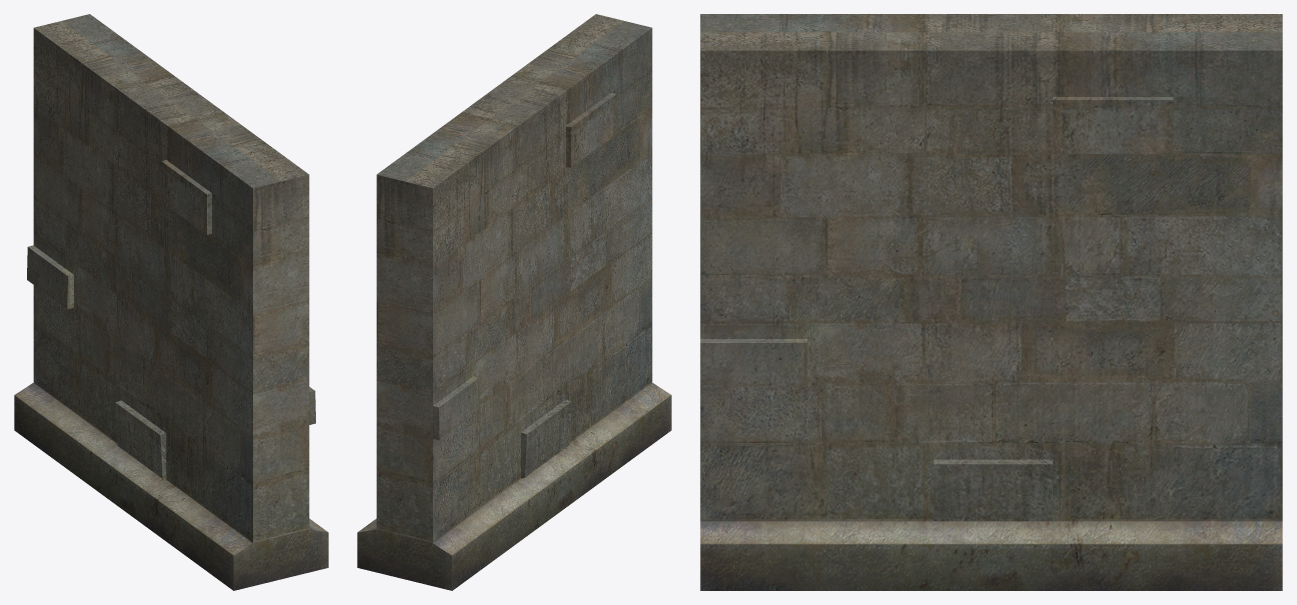
The model's file is bg_lut_lutomb_wall05_sm_old.FBX.
3 views of the same model, side by side, from view 1: azimuth 30°, elevation 25°; view 2: azimuth 150°, elevation 25°; view 3: azimuth 270°, elevation 25° (orthographic). The views are drawn at different scales.
Parts seen in each view (by area): view 1: bg_lut_lutomb_wall05_sm_old; view 2: bg_lut_lutomb_wall05_sm_old; view 3: bg_lut_lutomb_wall05_sm_old.
Boxes of the visible parts, x1,y1,x2,y2 form: bg_lut_lutomb_wall05_sm_old: (14, 14, 328, 590); bg_lut_lutomb_wall05_sm_old: (357, 14, 671, 590); bg_lut_lutomb_wall05_sm_old: (700, 14, 1282, 590).
Bounding box in the file's own units: 64 × 256 × 256.
